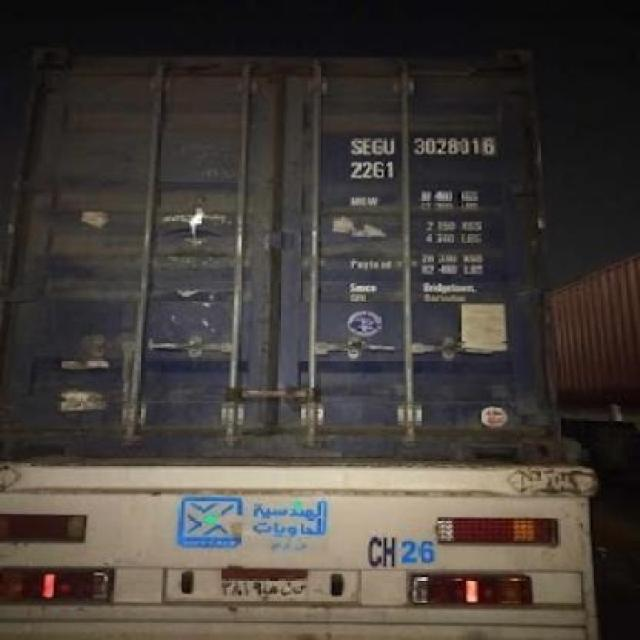ISO: (349, 162, 397, 180)
container_number: (356, 134, 499, 158)
